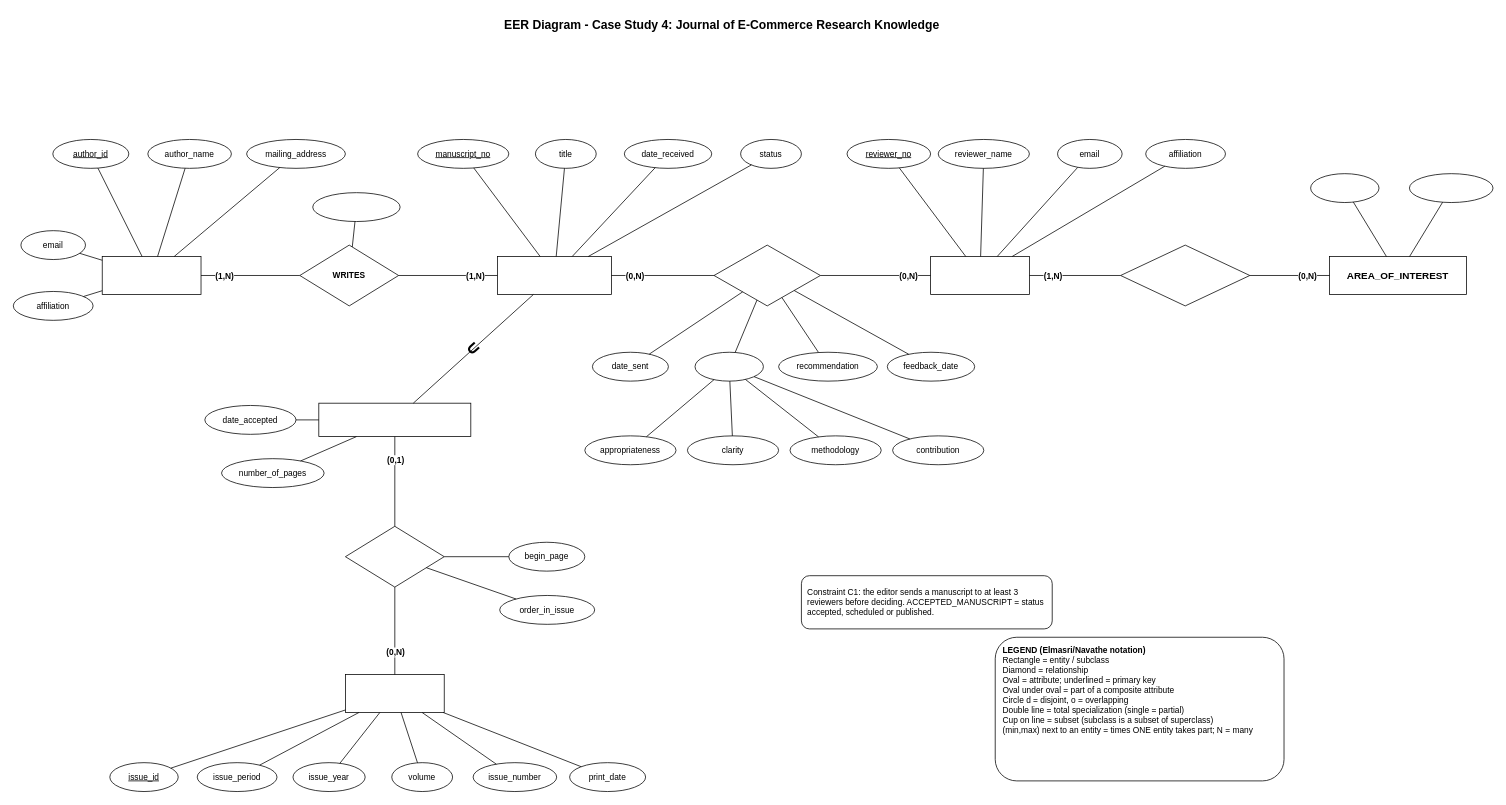
Some shapes in this 1506 by 805 pixel diagram are drawn without their labels. The shapes that lost their labels are listed below. From the top down, each one's centre as x and y in pixels, then its label:
At point (356, 207): "author_order".
At point (1344, 188): "is_code".
At point (1451, 188): "description".
At point (151, 275): "AUTHOR".
At point (554, 275): "MANUSCRIPT".
At point (766, 275): "REVIEWS".
At point (979, 275): "REVIEWER".
At point (1185, 275): "HAS_INTEREST".
At point (728, 366): "rating".
At point (394, 419): "ACCEPTED_MANUSCRIPT".
At point (394, 556): "CONTAINS".
At point (394, 693): "ISSUE".
